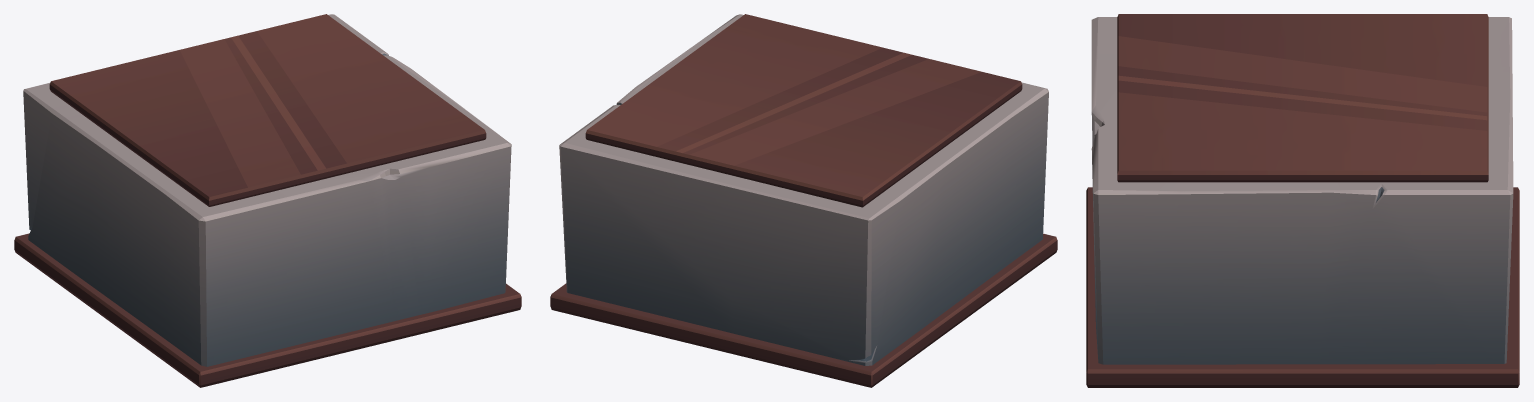
Rendered from DisplayCase_High_2x2_Classic_A.fbx.
3 views of the same model, side by side, from view 1: azimuth 30°, elevation 25°; view 2: azimuth 150°, elevation 25°; view 3: azimuth 270°, elevation 25° (orthographic). The views are drawn at different scales.
Parts seen in each view (by area): view 1: DisplayCase_High_2x2_Classic_A; view 2: DisplayCase_High_2x2_Classic_A; view 3: DisplayCase_High_2x2_Classic_A.
Boxes of the visible parts, x1,y1,x2,y2 form: DisplayCase_High_2x2_Classic_A: (14, 14, 521, 387); DisplayCase_High_2x2_Classic_A: (550, 14, 1057, 387); DisplayCase_High_2x2_Classic_A: (1086, 14, 1519, 387).
Size of the model in its own units: 1.92 by 1 by 1.92.
